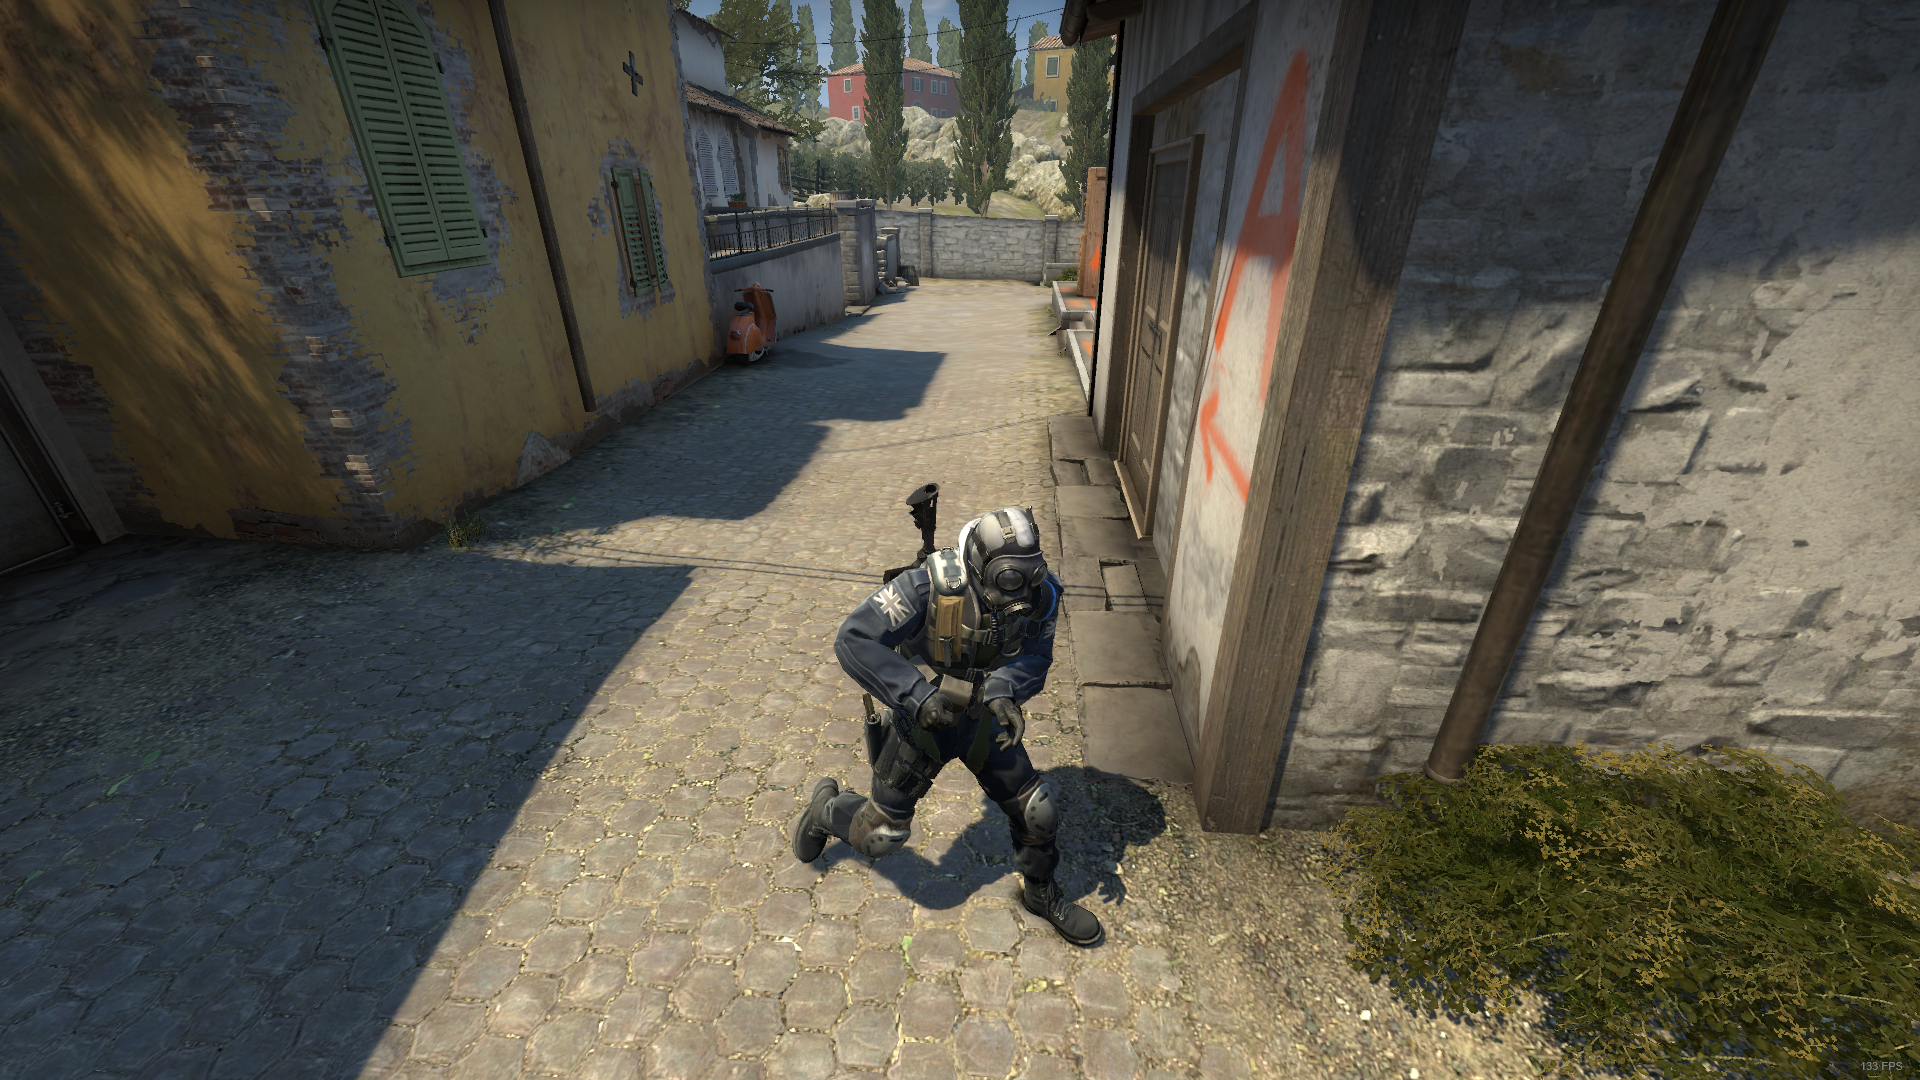ct: (789, 508, 1102, 949)
